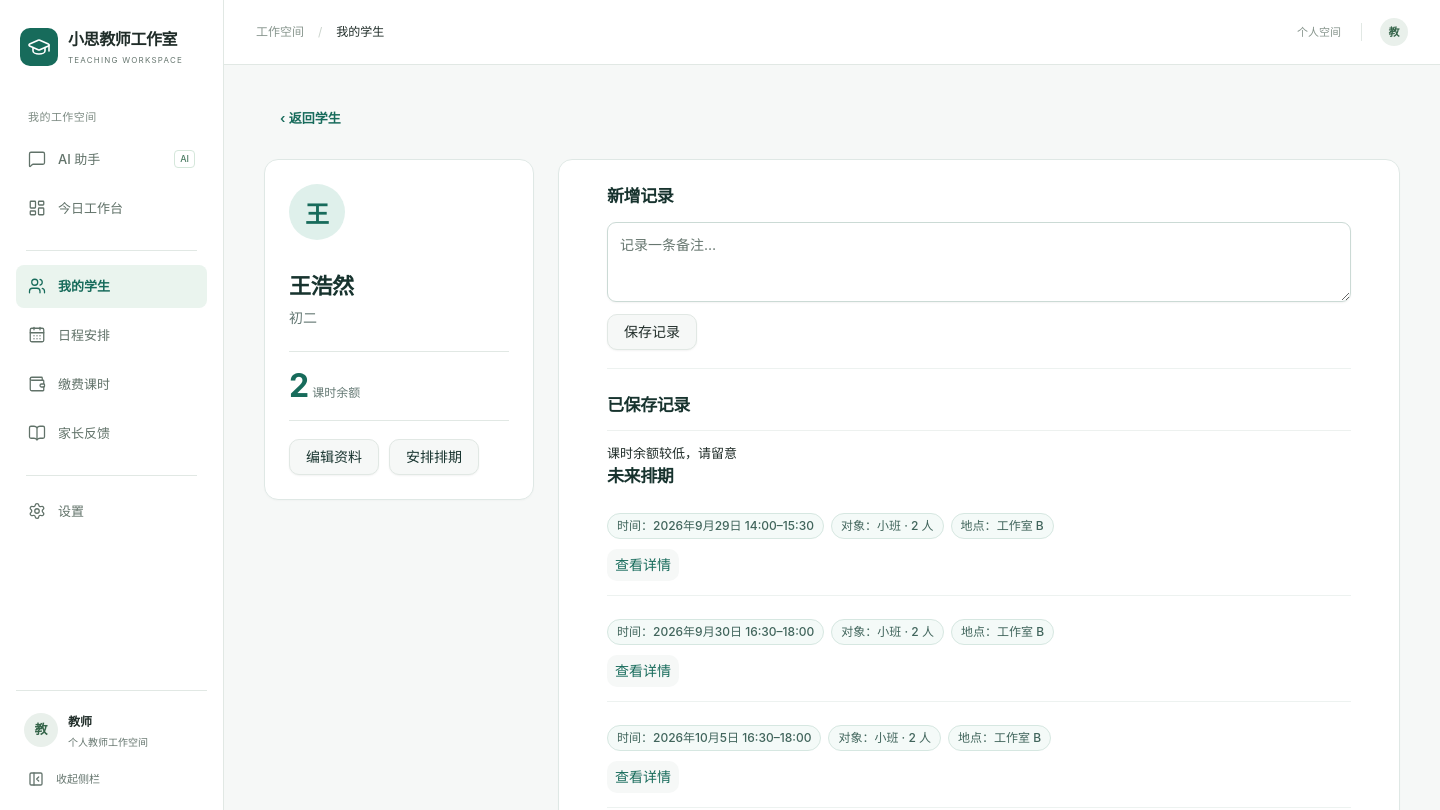
学生页面交互修复 › 从学生详情打开排期时预选当前学生和当天
This screenshot has width=1440, height=810.
Click the button "安排排期" at [434, 457], box [389, 439, 479, 475]
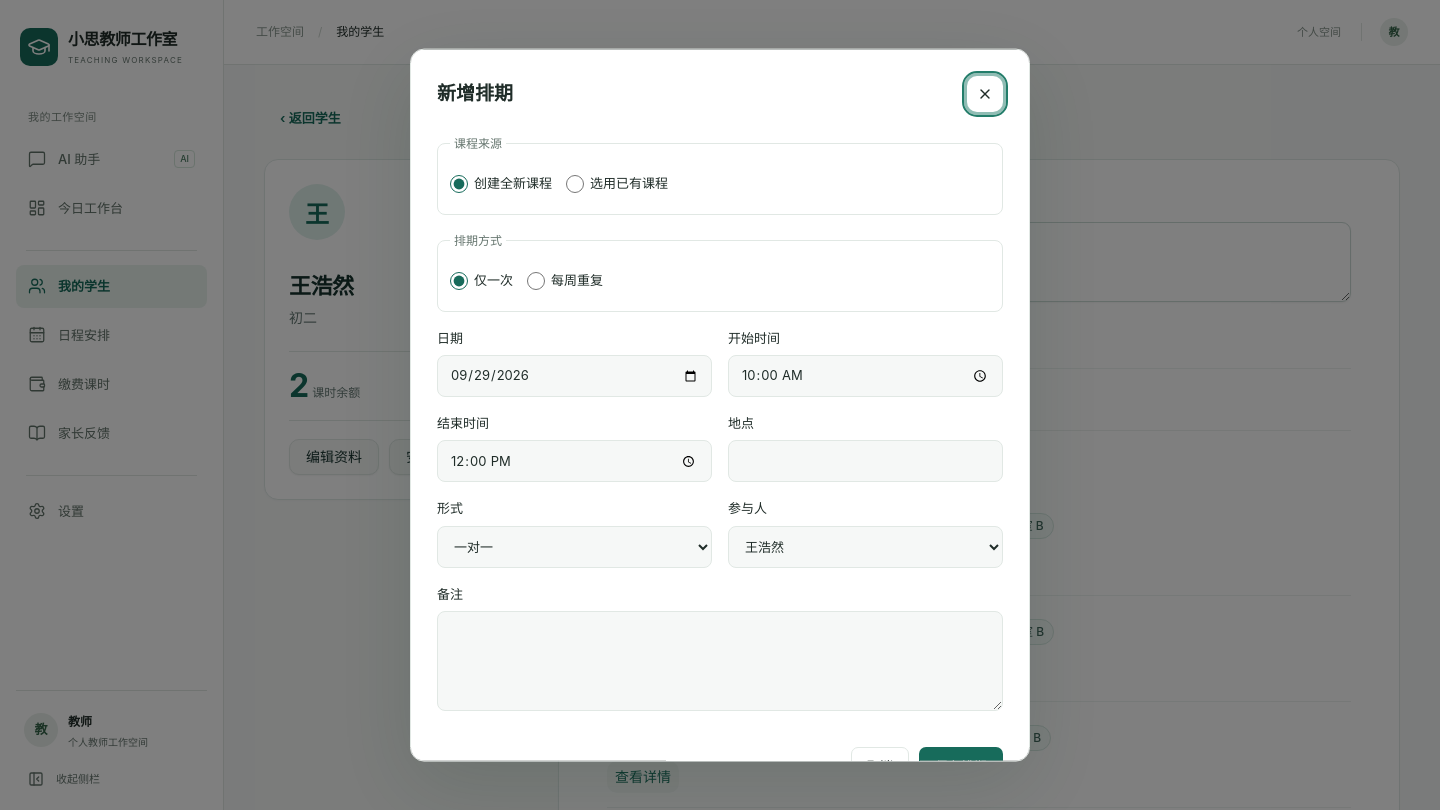
Check: the dialog "新增排期" is shown, box [410, 49, 1030, 761]
